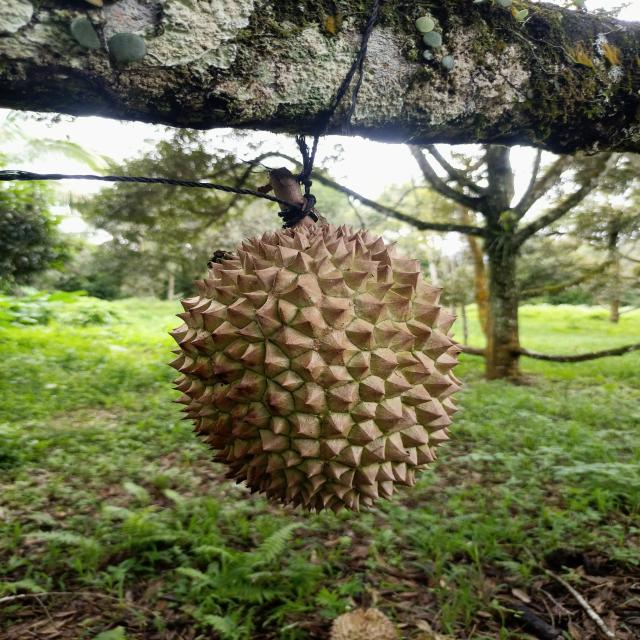mature: (168, 217, 462, 518)
